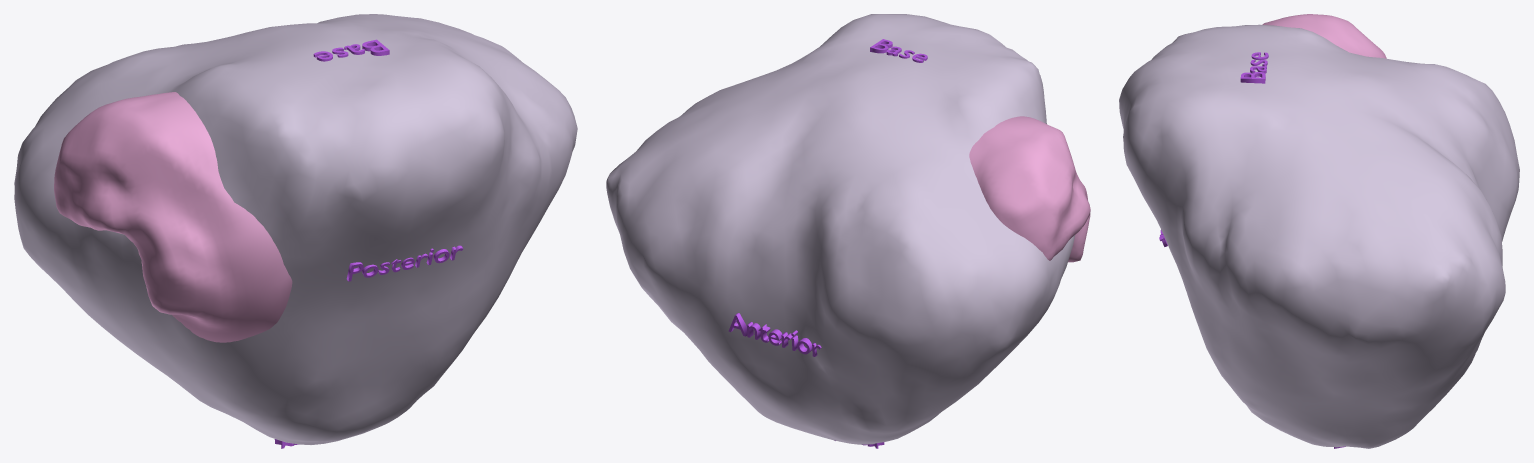
Rendered from labelled_Oct10v3.glb.
The picture shows the model from 3 angles, left to right: view 1: azimuth 30°, elevation 25°; view 2: azimuth 150°, elevation 25°; view 3: azimuth 270°, elevation 25°; orthographic projection. The views are drawn at different scales.
Parts seen in each view (by area): view 1: ProstateMRIPPMF17smoothed2Fixed, TumourSUV4, Posterior, Base; view 2: ProstateMRIPPMF17smoothed2Fixed, TumourSUV4, Anterior, Base; view 3: ProstateMRIPPMF17smoothed2Fixed, TumourSUV4, Base.
Part boxes in pixels (box(x1,y1,x2,y2)): ProstateMRIPPMF17smoothed2Fixed: box(14, 14, 577, 444); TumourSUV4: box(54, 92, 292, 342); Posterior: box(346, 245, 463, 281); Base: box(313, 39, 389, 61); ProstateMRIPPMF17smoothed2Fixed: box(606, 14, 1074, 444); TumourSUV4: box(969, 116, 1090, 262); Anterior: box(728, 313, 821, 356); Base: box(870, 39, 927, 62); ProstateMRIPPMF17smoothed2Fixed: box(1119, 24, 1519, 448); TumourSUV4: box(1262, 14, 1386, 58); Base: box(1240, 52, 1268, 83).
Size of the model in its own units: 7.69 by 6.38 by 6.26.
